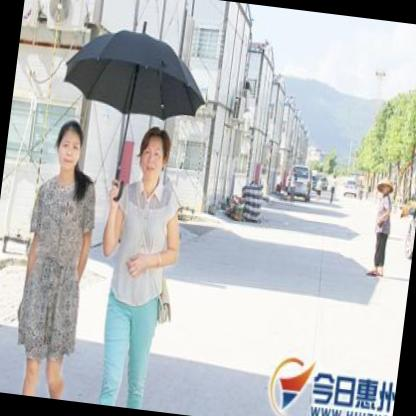head: (131, 121, 176, 193), (48, 114, 88, 179)
